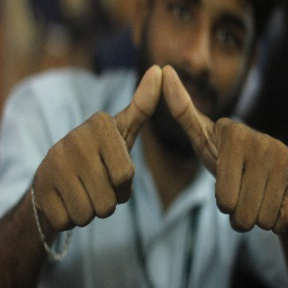A: (80, 61, 269, 230)
